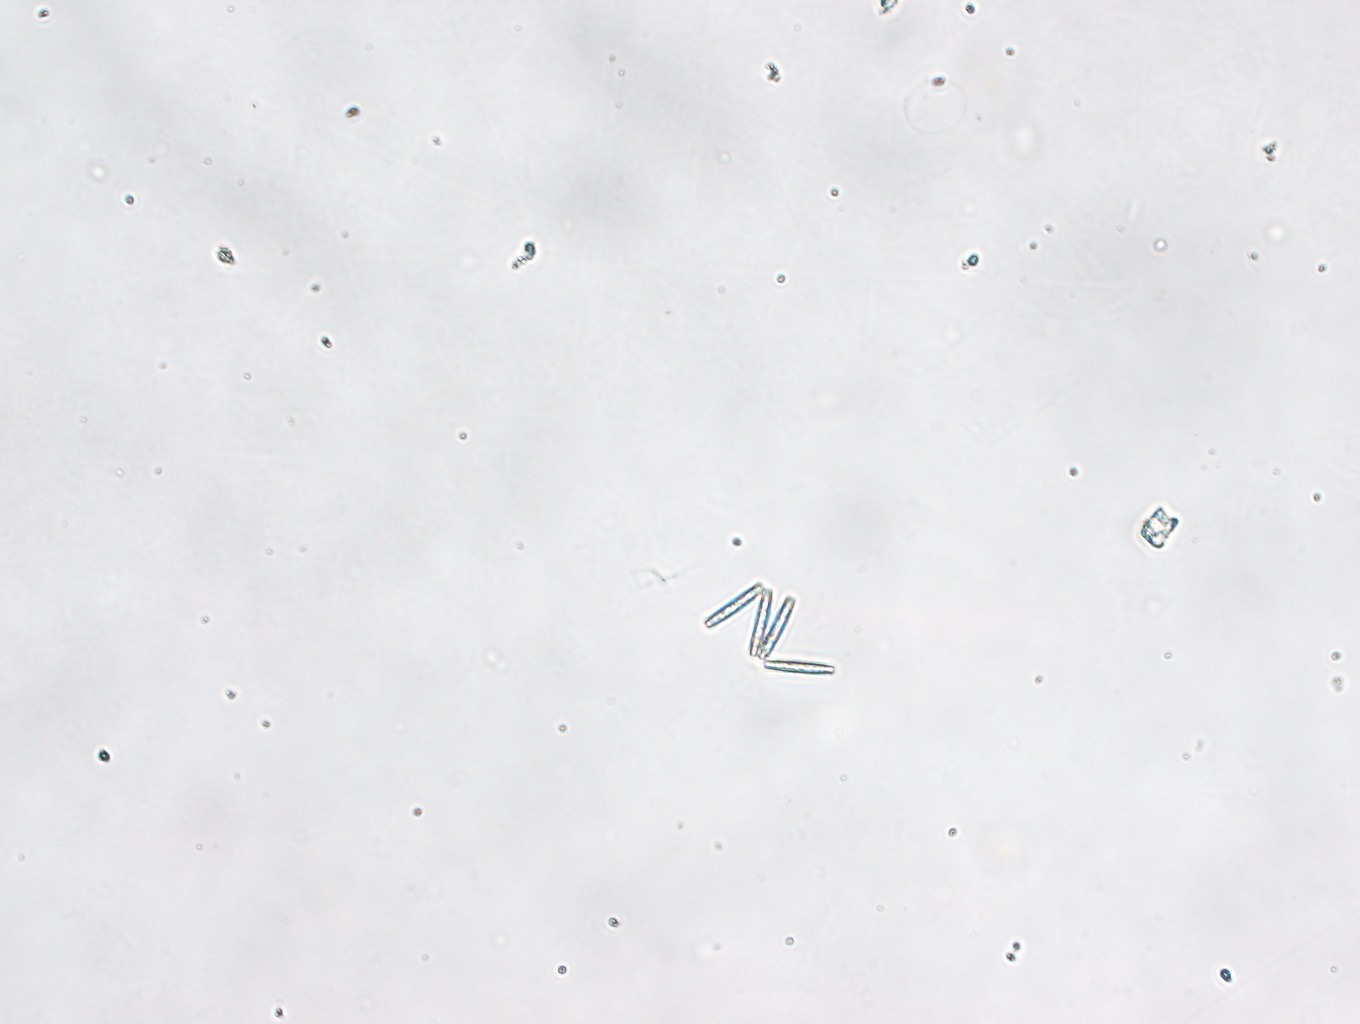thalassionema nitzschioides: (705, 582, 836, 675)
